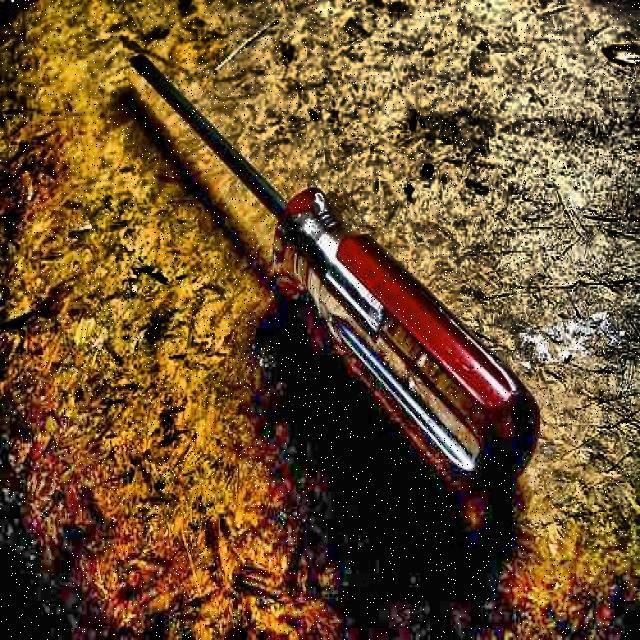screwdriver: (128, 52, 541, 496)
